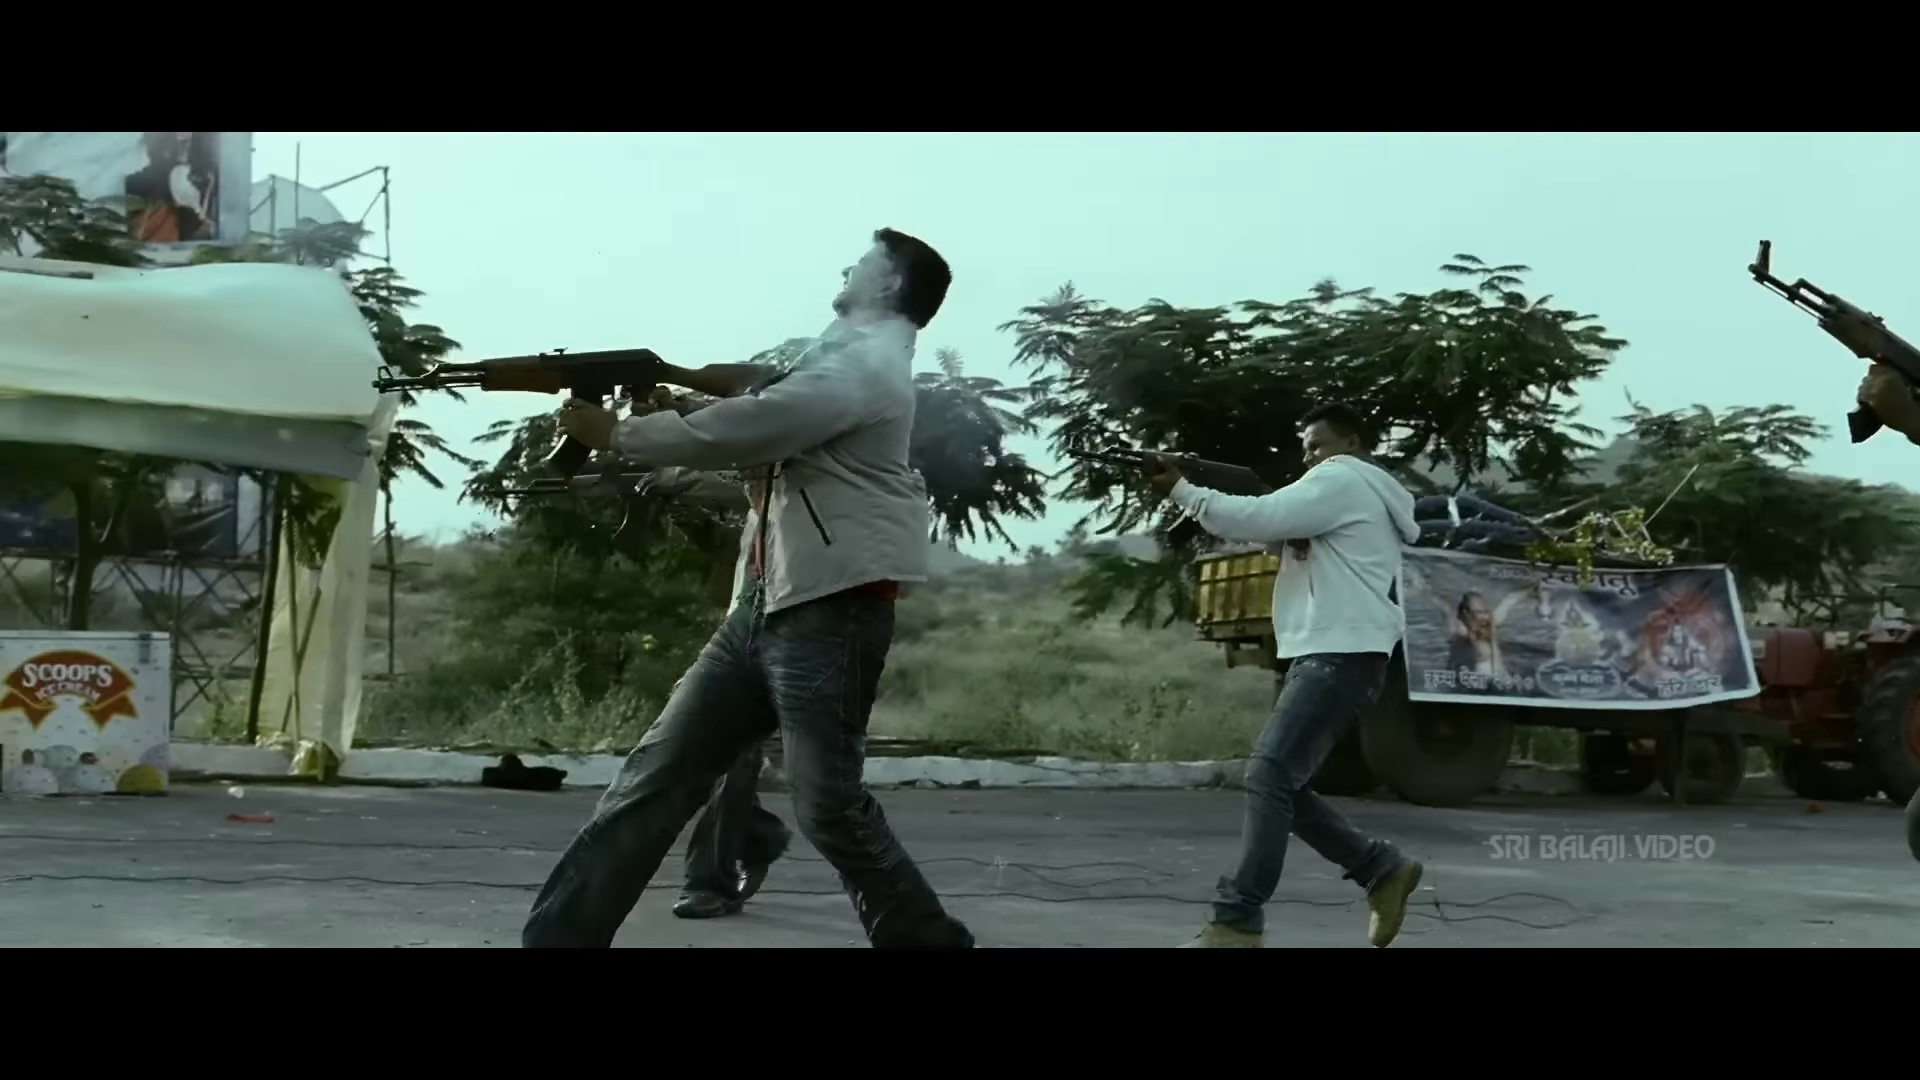gun: (367, 339, 799, 480), (1747, 235, 1920, 452), (1062, 439, 1283, 545)
p_w_gun: (378, 223, 975, 952), (1063, 394, 1428, 947)
